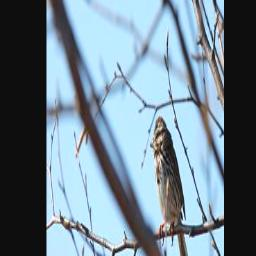Sparrow: (150, 111, 196, 256)
